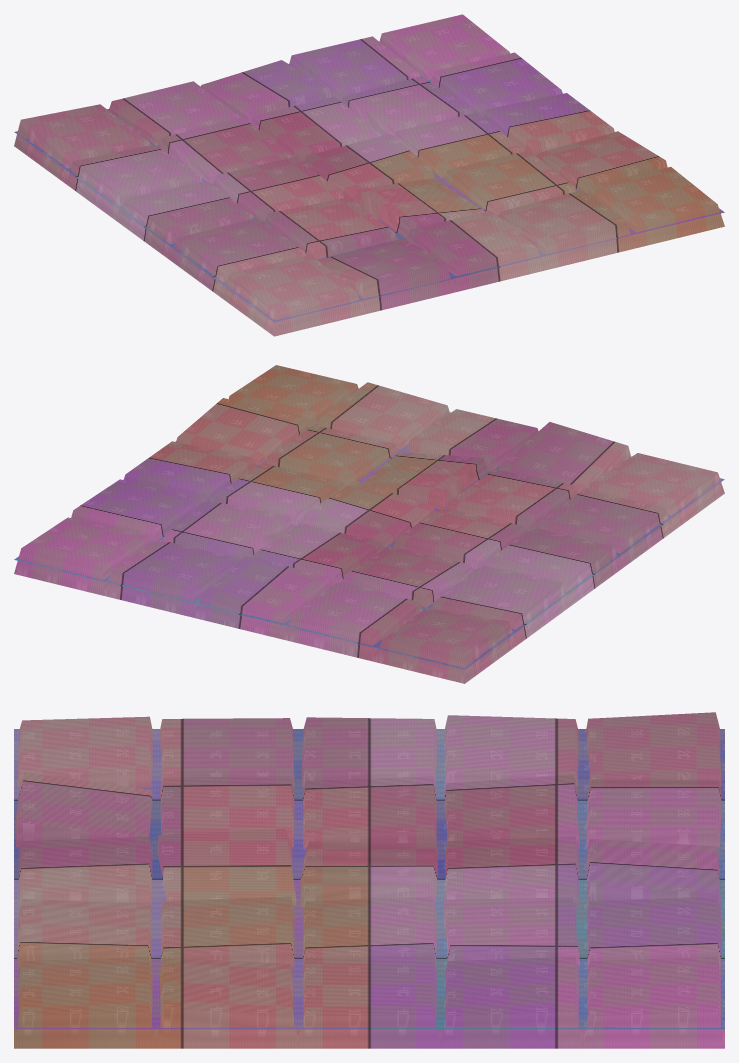
File: tile_floor_kitchen.glb
The picture shows the model from 3 angles, top to bottom: view 1: azimuth 30°, elevation 25°; view 2: azimuth 150°, elevation 25°; view 3: azimuth 270°, elevation 25°; orthographic projection. The views are drawn at different scales.
Parts seen in each view (by area): view 1: tile_floor_kitchen; view 2: tile_floor_kitchen; view 3: tile_floor_kitchen.
Boxes of the visible parts, x1=… form: tile_floor_kitchen: x1=14, y1=14, x2=724, y2=336; tile_floor_kitchen: x1=14, y1=365, x2=724, y2=683; tile_floor_kitchen: x1=14, y1=712, x2=724, y2=1048.
Size of the model in its own units: 1 by 0.0647 by 1.
Materials: 1 (1 with a texture image).
